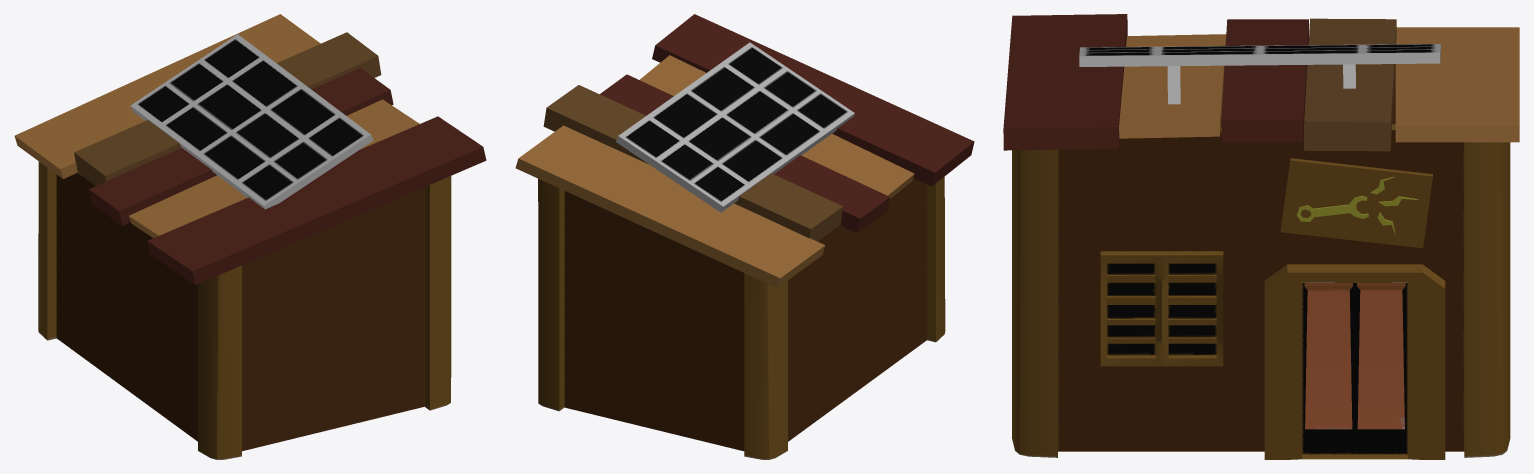
File: workshopCrowIsland.fbx
3 renders of one model, left to right at view 1: azimuth 30°, elevation 25°; view 2: azimuth 150°, elevation 25°; view 3: azimuth 270°, elevation 25°, orthographic. The views are drawn at different scales.
Parts seen in each view (by area): view 1: tinkerWorkshop.001; view 2: tinkerWorkshop.001; view 3: tinkerWorkshop.001.
Boxes of the visible parts, <box> form: tinkerWorkshop.001: <box>14,14,486,459</box>; tinkerWorkshop.001: <box>515,14,974,459</box>; tinkerWorkshop.001: <box>1003,14,1519,459</box>.
Size of the model in its own units: 520 by 445 by 572.
